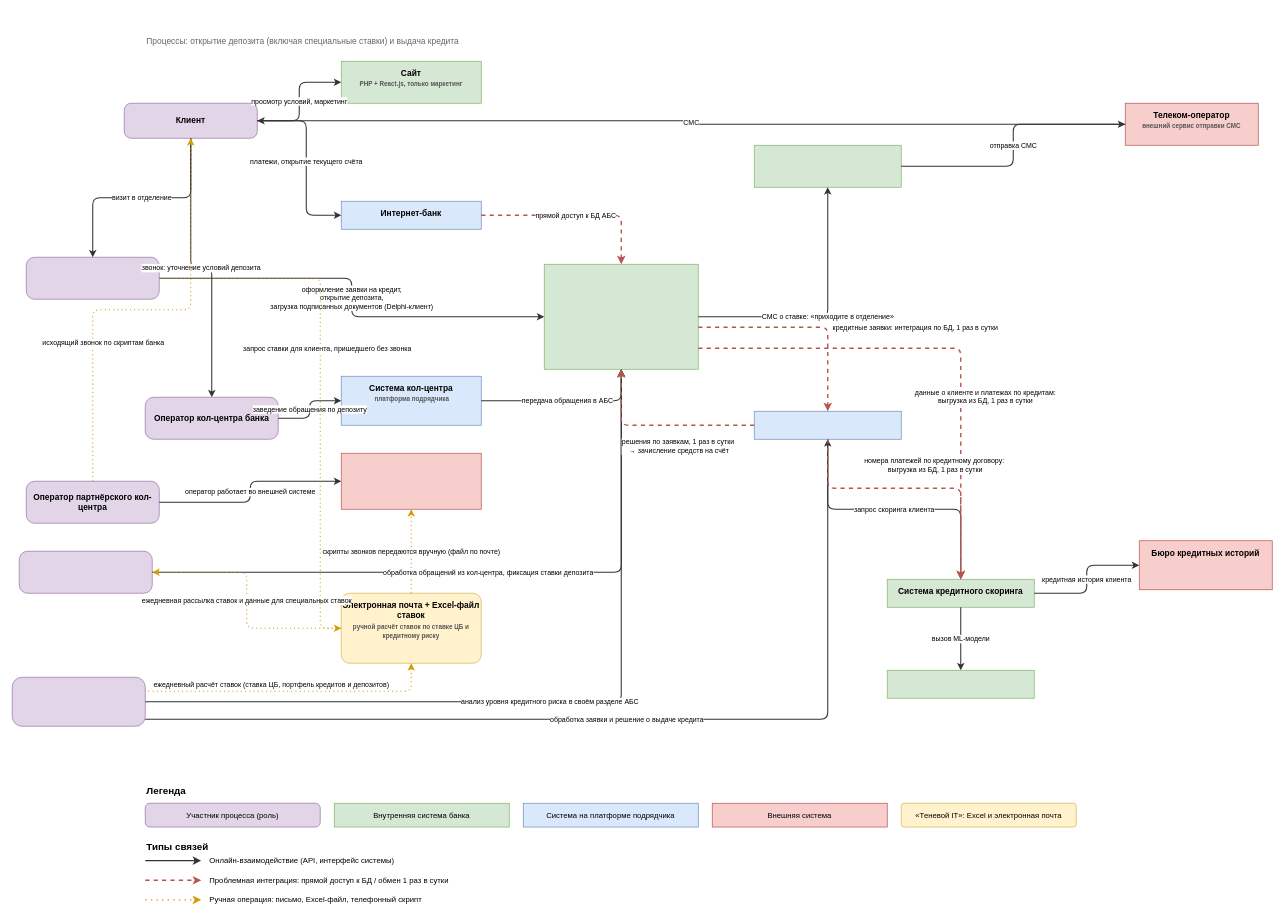
This 1285x920 diagram has some shape labels left out. The shapes that lost their labels are listed below. From the top down, each one's centre as x and y in pixels, then its label:
At pixel 827 166: "СМС-шлюз сопровождает IT-отдел банка".
At pixel 92 278: "Сотрудник фронт-офиса".
At pixel 621 316: "АБС — автоматизированная банковская система".
At pixel 827 425: "Кредитный конвейер".
At pixel 411 481: "Система партнёрского кол-центра внешняя система, интеграций с банком нет".
At pixel 85 572: "Менеджер бэк-офиса по депозитам".
At pixel 78 701: "Менеджер отдела кредитования".
At pixel 960 684: "Внутренний ML-сервис".
